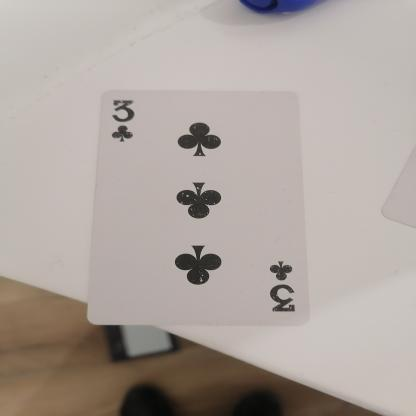3C: (260, 256, 304, 324), (108, 96, 146, 148)
